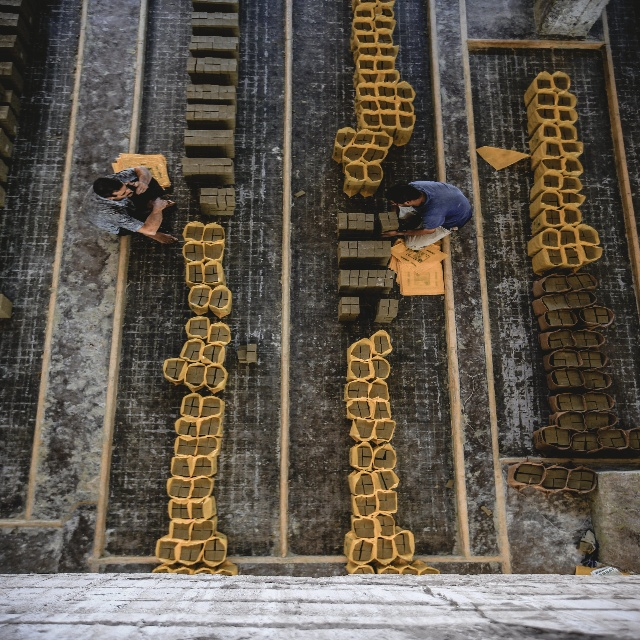Sin_guantes: (129, 181, 149, 195), (380, 231, 397, 237)
